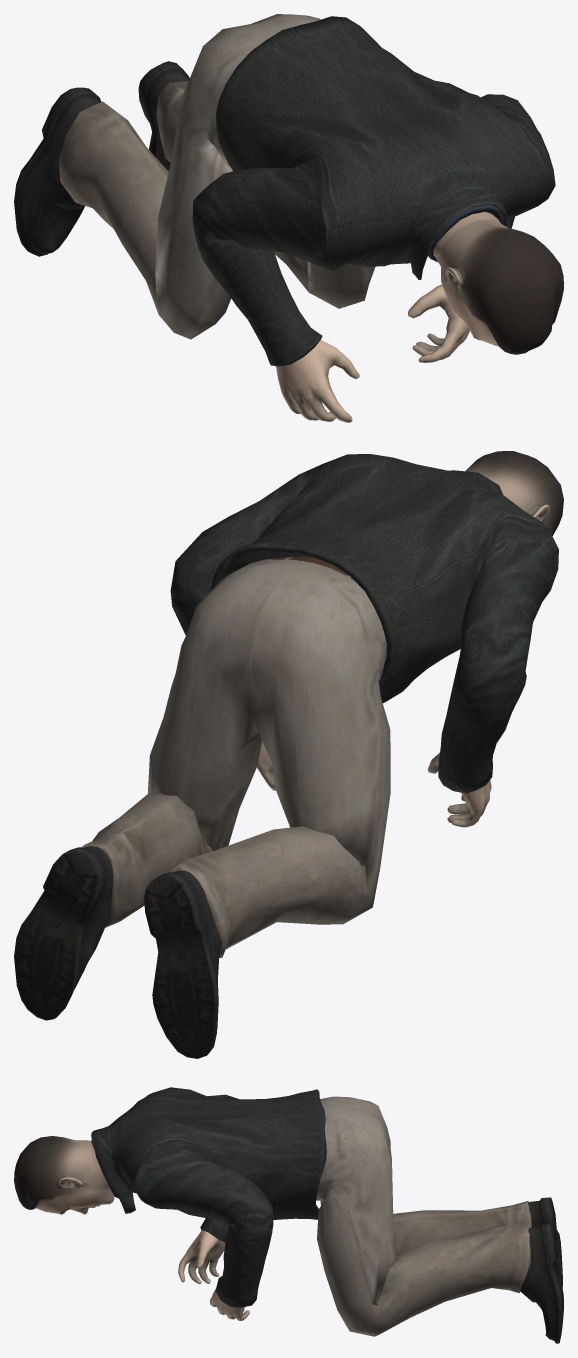
Rendered from dest_nt_nuked_male_03_d0_LOD0.obj.
The picture shows the model from 3 angles, top to bottom: view 1: azimuth 30°, elevation 25°; view 2: azimuth 150°, elevation 25°; view 3: azimuth 270°, elevation 25°; orthographic projection. The views are drawn at different scales.
Parts seen in each view (by area): view 1: mtl_nt_2020_manne_male01_jacket1, mtl_nt_2020_manne_male01_pants1, mtl_nt_2020_manne_male01_head1; view 2: mtl_nt_2020_manne_male01_pants1, mtl_nt_2020_manne_male01_jacket1, mtl_nt_2020_manne_male01_head1; view 3: mtl_nt_2020_manne_male01_pants1, mtl_nt_2020_manne_male01_jacket1, mtl_nt_2020_manne_male01_head1.
Boxes of the visible parts, left/top/right/bottom form: mtl_nt_2020_manne_male01_jacket1: left=192, top=16, right=555, bottom=366; mtl_nt_2020_manne_male01_pants1: left=14, top=14, right=375, bottom=339; mtl_nt_2020_manne_male01_head1: left=276, top=212, right=563, bottom=422; mtl_nt_2020_manne_male01_pants1: left=14, top=557, right=390, bottom=1058; mtl_nt_2020_manne_male01_jacket1: left=170, top=454, right=558, bottom=793; mtl_nt_2020_manne_male01_head1: left=257, top=451, right=563, bottom=827; mtl_nt_2020_manne_male01_pants1: left=316, top=1096, right=563, bottom=1343; mtl_nt_2020_manne_male01_jacket1: left=91, top=1087, right=326, bottom=1308; mtl_nt_2020_manne_male01_head1: left=14, top=1136, right=249, bottom=1320.
Bounding box in the file's own units: 67.41 × 66.45 × 147.
